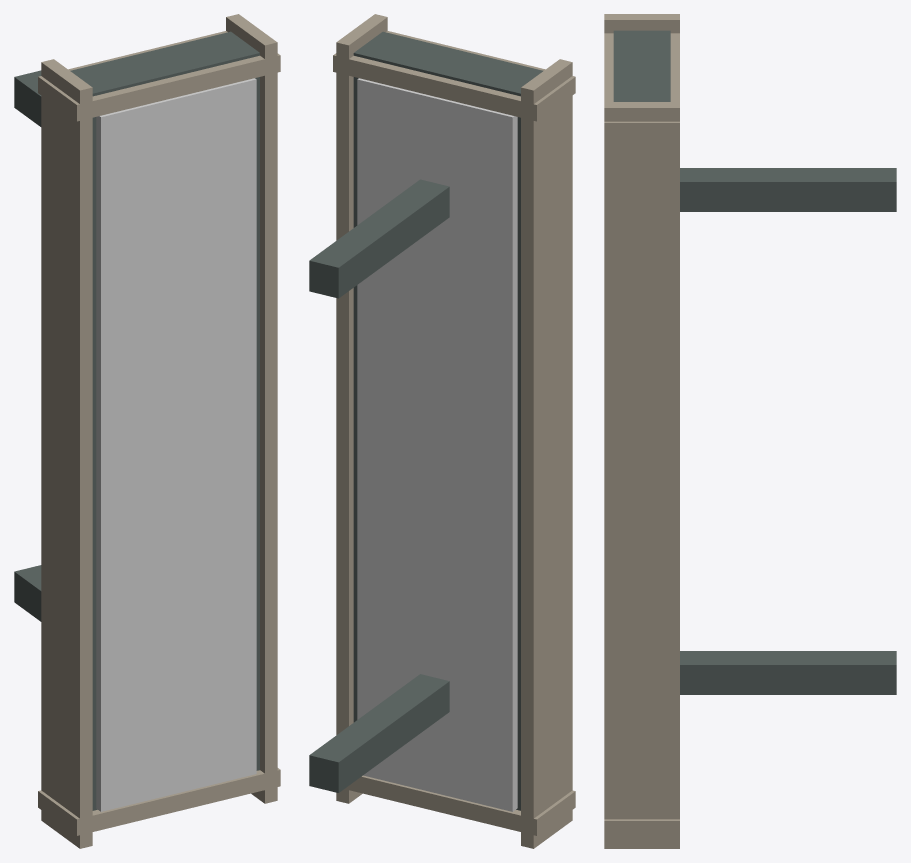
3 renders of one model, left to right at view 1: azimuth 30°, elevation 25°; view 2: azimuth 150°, elevation 25°; view 3: azimuth 270°, elevation 25°, orthographic. The views are drawn at different scales.
Parts seen in each view (by area): view 1: Visual; view 2: Visual; view 3: Visual.
Boxes of the visible parts, x1,y1,x2,y2 form: Visual: (14, 14, 280, 848); Visual: (309, 14, 575, 848); Visual: (604, 14, 896, 848).
Bounding box in the file's own units: 1.94 × 6.9 × 2.47.
